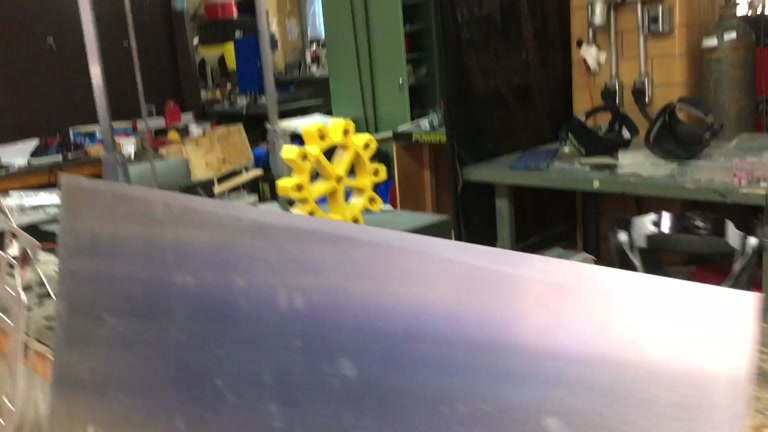gear: (274, 117, 387, 231)
